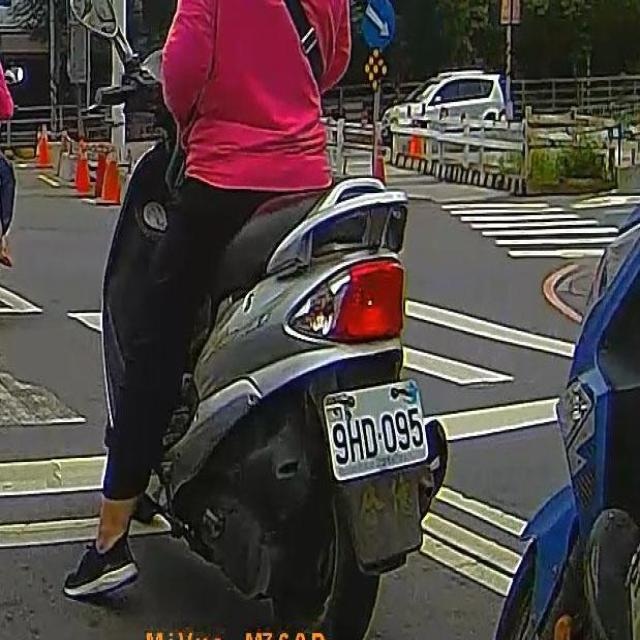license-plate: (323, 376, 427, 480)
